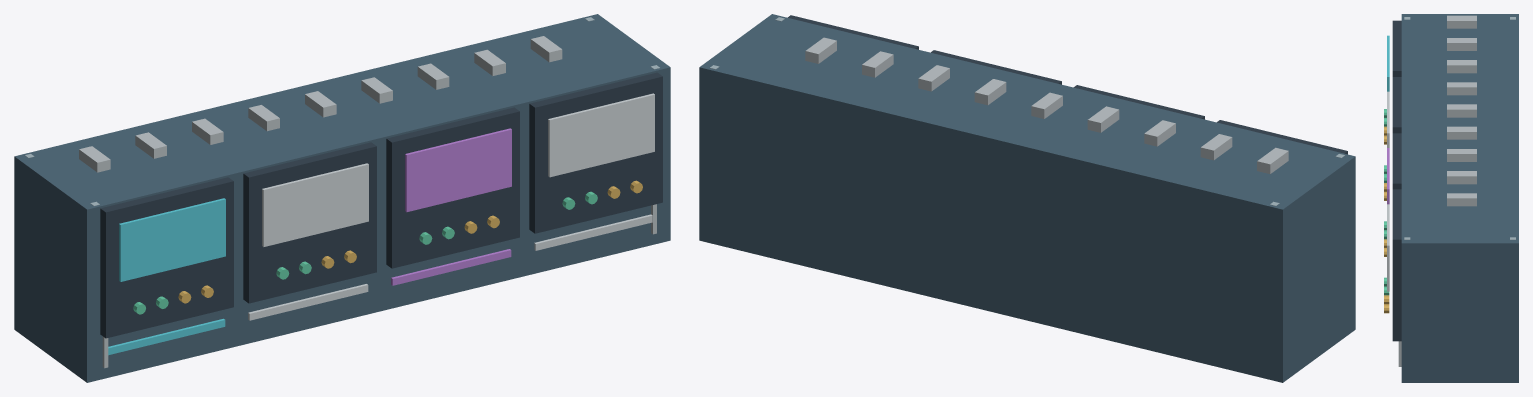
Rendered from 43_L72_FourStageALDCycleSequencer.glb.
3 views of the same model, side by side, from view 1: azimuth 30°, elevation 25°; view 2: azimuth 150°, elevation 25°; view 3: azimuth 270°, elevation 25° (orthographic). The views are drawn at different scales.
Visible parts, largest first — view 1: FourStageALDCycleSequencer_Part_000, FourStageALDCycleSequencer_Part_014, FourStageALDCycleSequencer_Part_021, FourStageALDCycleSequencer_Part_007, FourStageALDCycleSequencer_Part_028, FourStageALDCycleSequencer_Part_008, FourStageALDCycleSequencer_Part_022, FourStageALDCycleSequencer_Part_029, FourStageALDCycleSequencer_Part_015, FourStageALDCycleSequencer_Part_020, FourStageALDCycleSequencer_Part_027, FourStageALDCycleSequencer_Part_034 (+10 smaller); view 2: FourStageALDCycleSequencer_Part_000, FourStageALDCycleSequencer_Part_040, FourStageALDCycleSequencer_Part_036, FourStageALDCycleSequencer_Part_038, FourStageALDCycleSequencer_Part_037, FourStageALDCycleSequencer_Part_039, FourStageALDCycleSequencer_Part_042, FourStageALDCycleSequencer_Part_043, FourStageALDCycleSequencer_Part_035, FourStageALDCycleSequencer_Part_041; view 3: FourStageALDCycleSequencer_Part_000, FourStageALDCycleSequencer_Part_028, FourStageALDCycleSequencer_Part_007, FourStageALDCycleSequencer_Part_014, FourStageALDCycleSequencer_Part_021, FourStageALDCycleSequencer_Part_035, FourStageALDCycleSequencer_Part_037, FourStageALDCycleSequencer_Part_038, FourStageALDCycleSequencer_Part_039, FourStageALDCycleSequencer_Part_040, FourStageALDCycleSequencer_Part_042, FourStageALDCycleSequencer_Part_043 (+6 smaller).
Part boxes in pixels (x1,y1,x2,y2): FourStageALDCycleSequencer_Part_000: (14, 14, 670, 382); FourStageALDCycleSequencer_Part_014: (243, 142, 376, 303); FourStageALDCycleSequencer_Part_021: (386, 107, 519, 268); FourStageALDCycleSequencer_Part_007: (100, 177, 233, 338); FourStageALDCycleSequencer_Part_028: (529, 72, 662, 233); FourStageALDCycleSequencer_Part_008: (119, 198, 225, 281); FourStageALDCycleSequencer_Part_022: (405, 128, 511, 212); FourStageALDCycleSequencer_Part_029: (548, 93, 654, 177); FourStageALDCycleSequencer_Part_015: (262, 163, 368, 246); FourStageALDCycleSequencer_Part_020: (248, 284, 368, 320); FourStageALDCycleSequencer_Part_027: (391, 249, 511, 285); FourStageALDCycleSequencer_Part_034: (534, 214, 652, 250); FourStageALDCycleSequencer_Part_000: (699, 14, 1355, 382); FourStageALDCycleSequencer_Part_040: (974, 79, 1006, 105); FourStageALDCycleSequencer_Part_036: (1200, 134, 1232, 160); FourStageALDCycleSequencer_Part_038: (1087, 106, 1119, 132); FourStageALDCycleSequencer_Part_037: (1144, 120, 1175, 146); FourStageALDCycleSequencer_Part_039: (1031, 92, 1062, 118); FourStageALDCycleSequencer_Part_042: (862, 51, 893, 77); FourStageALDCycleSequencer_Part_043: (805, 37, 836, 63); FourStageALDCycleSequencer_Part_035: (1257, 147, 1288, 173); FourStageALDCycleSequencer_Part_041: (918, 65, 949, 91); FourStageALDCycleSequencer_Part_000: (1401, 14, 1518, 382); FourStageALDCycleSequencer_Part_028: (1392, 189, 1401, 341); FourStageALDCycleSequencer_Part_007: (1392, 20, 1401, 76); FourStageALDCycleSequencer_Part_014: (1392, 77, 1401, 133); FourStageALDCycleSequencer_Part_021: (1392, 133, 1401, 189); FourStageALDCycleSequencer_Part_035: (1447, 15, 1476, 28); FourStageALDCycleSequencer_Part_037: (1447, 60, 1476, 73); FourStageALDCycleSequencer_Part_038: (1447, 82, 1476, 95); FourStageALDCycleSequencer_Part_039: (1447, 104, 1476, 117); FourStageALDCycleSequencer_Part_040: (1447, 126, 1476, 139); FourStageALDCycleSequencer_Part_042: (1447, 171, 1476, 184); FourStageALDCycleSequencer_Part_043: (1447, 193, 1476, 206).
Bounding box in the file's own units: 3.1 × 0.965 × 0.77.
